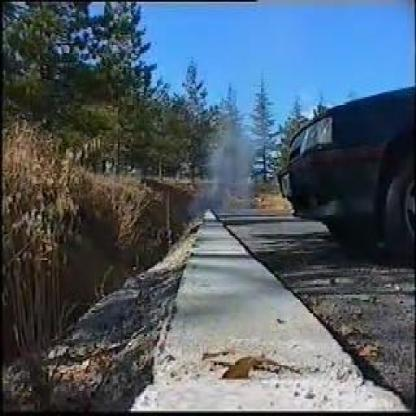-: (195, 142, 242, 217)
